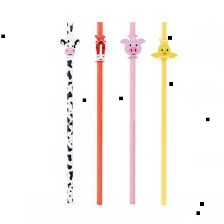drinking_straw: (149, 15, 180, 209), (116, 16, 146, 208), (56, 17, 82, 209), (87, 16, 110, 209)
